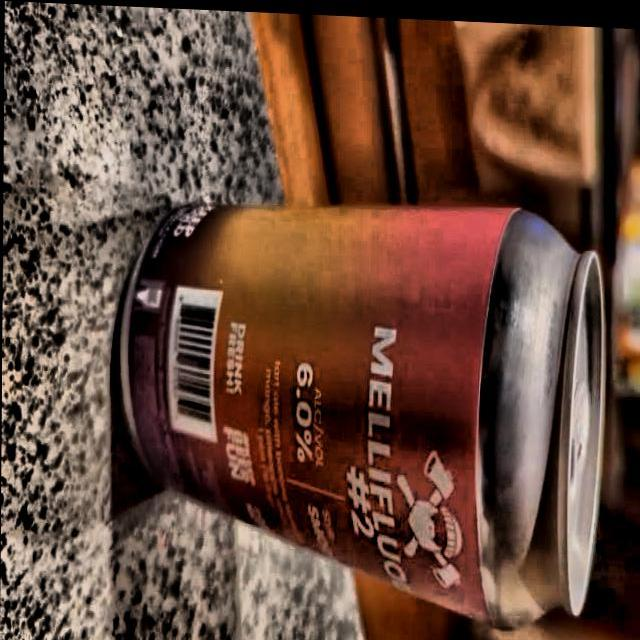litter: (115, 179, 618, 639)
